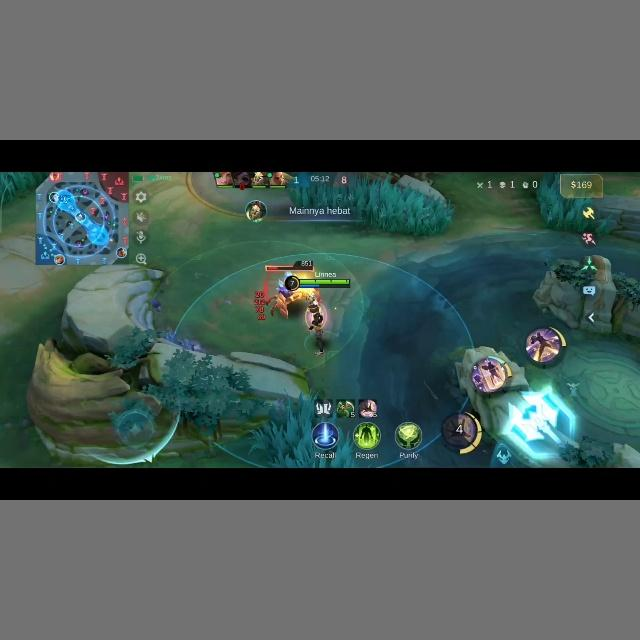hero_self: (305, 297, 329, 354)
hp_self: (293, 277, 349, 287)
money_crab: (266, 276, 300, 310)
